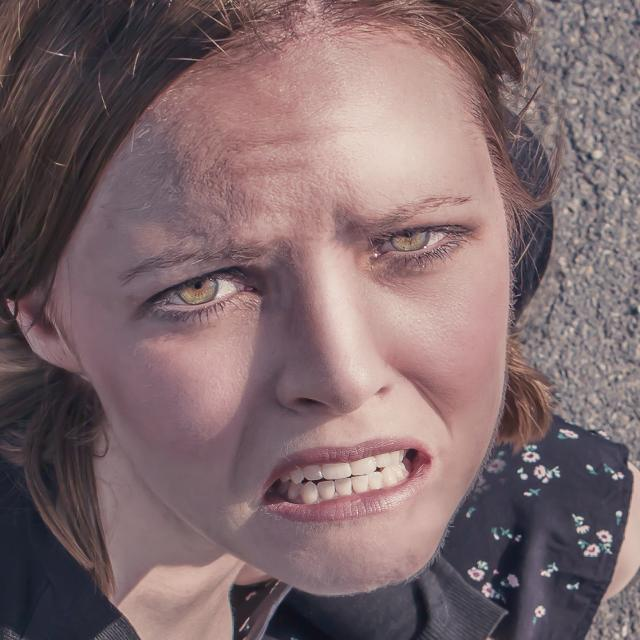Depress: (50, 27, 510, 596)
